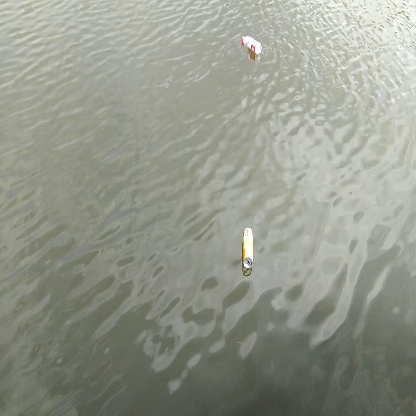bottle: (239, 223, 257, 271), (238, 31, 266, 58)
